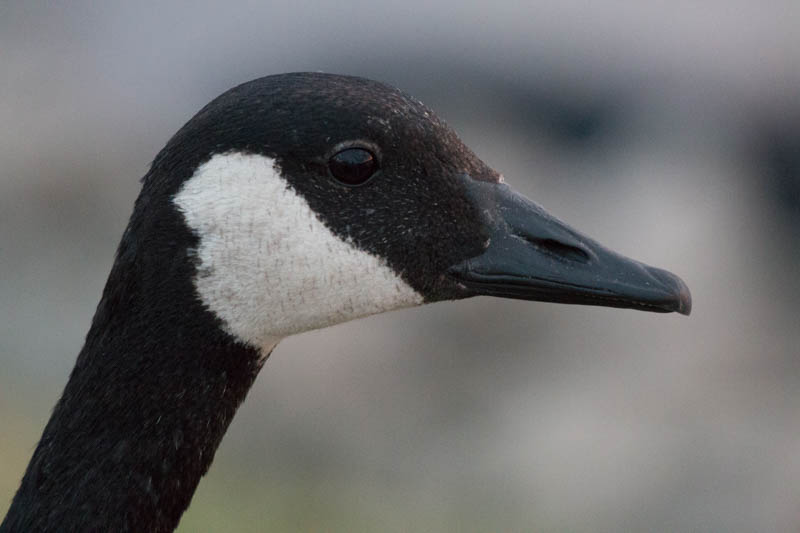goose-head: (125, 72, 693, 359)
